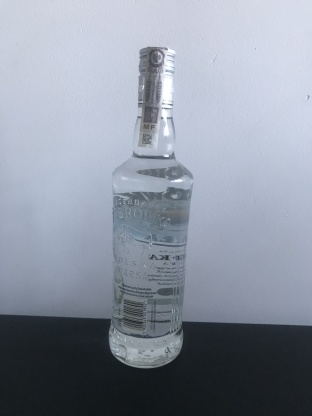nakretka: (135, 41, 178, 112)
